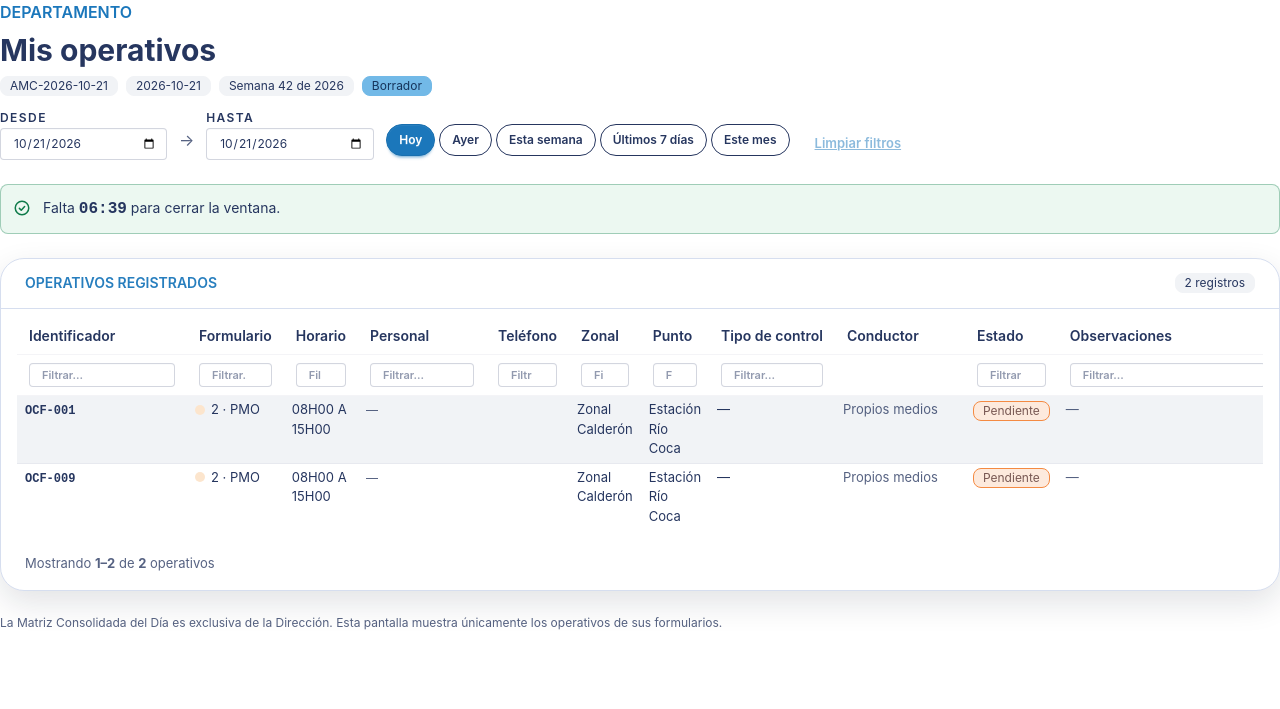
Test: P-02 · filtro Desde–Hasta › con varios días: una fila de cabecera por día, resumen en la cabecera y orden del servidor
Click the button "Últimos 7 días" at (653, 140), box [600, 124, 707, 156]
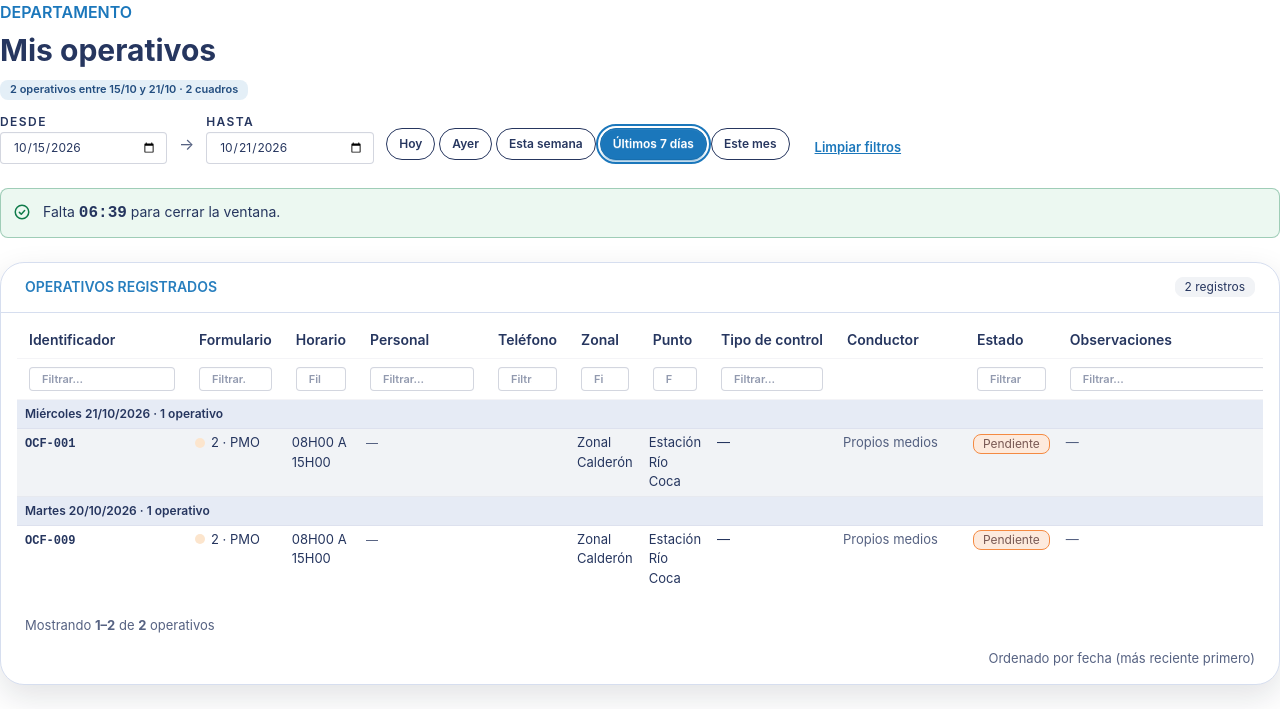
Check: the column heading "Identificador" is shown, box [17, 321, 187, 359]
Check: the text "Ordenado por fecha (más reciente primero)" is shown, box [988, 650, 1255, 666]
